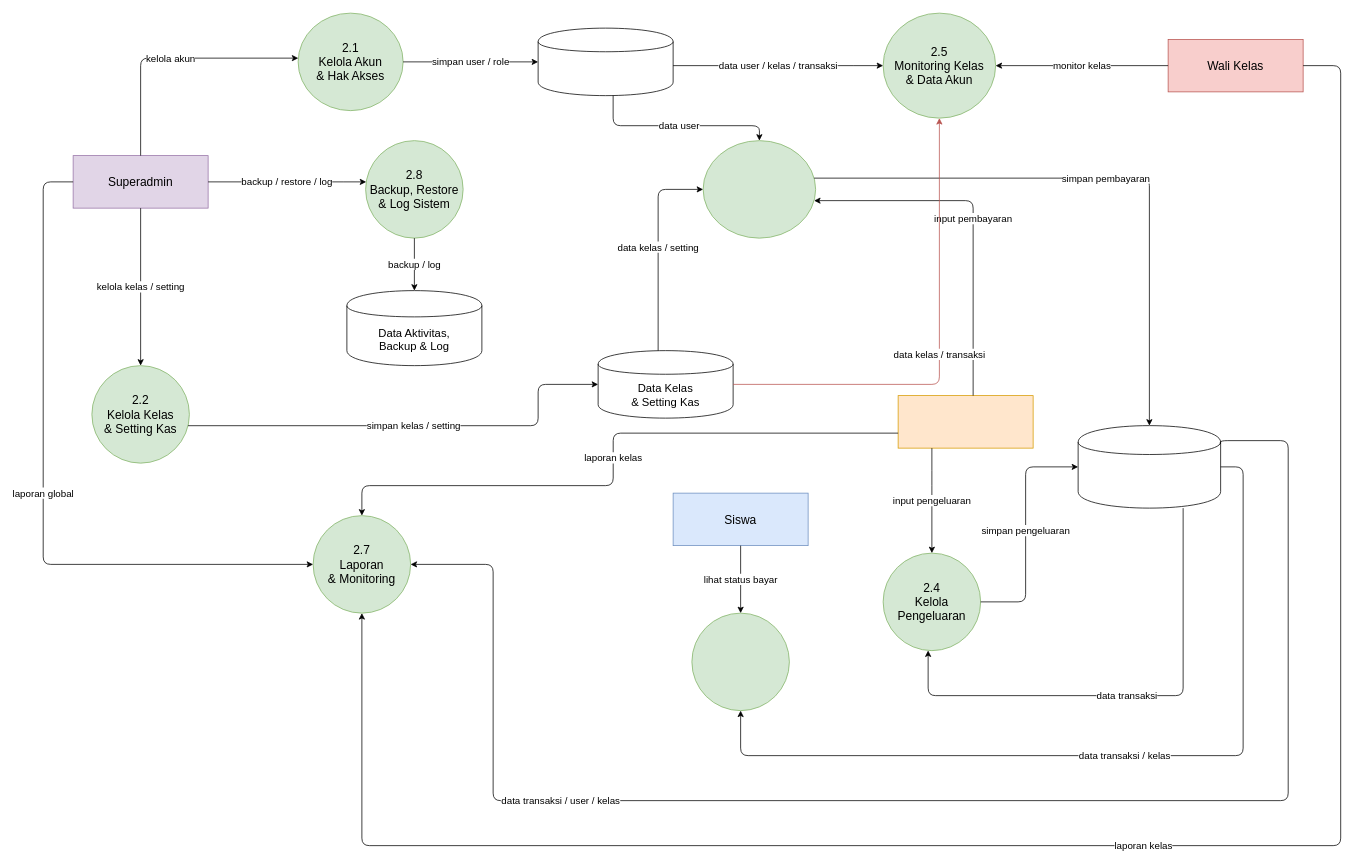
Image size: 1361x865. Some labels were removed from this diagram. The shapes that lost their labels are listed below. From the top down, each one's centre as x and y in pixels, then its label:
[605,61]: Data User & Hak Akses
[759,189]: 2.3 Input Pembayaran Kas / Denda
[965,421]: Bendahara
[1149,466]: Data Transaksi Kas / Denda / Pengeluaran
[740,661]: 2.6 Status Pembayaran Siswa
